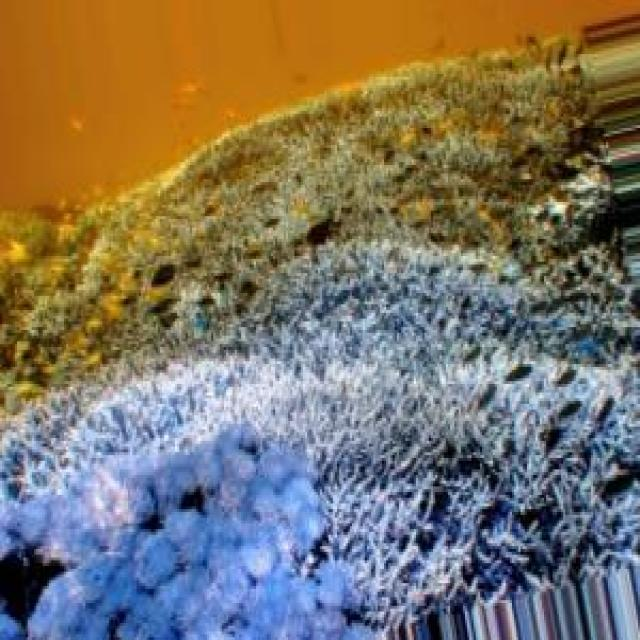Healthy: (35, 41, 618, 379), (42, 428, 327, 640), (219, 450, 332, 607)
